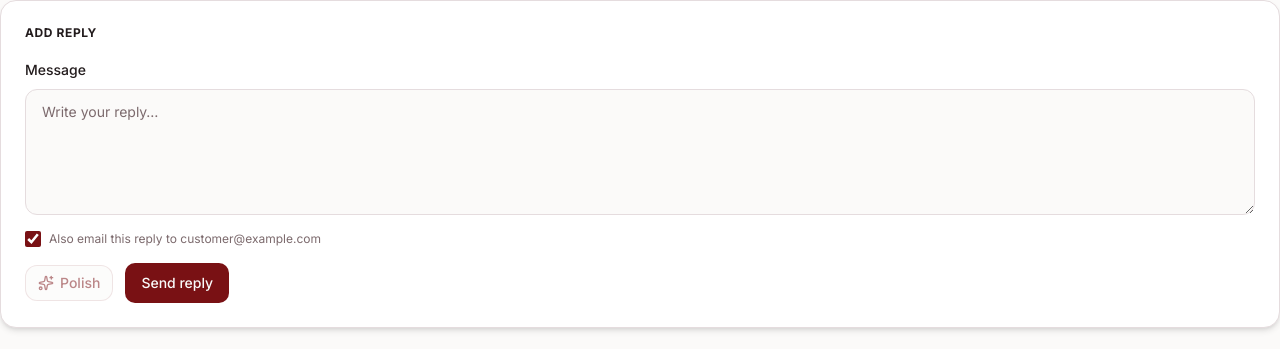
Test: ReplyForm — Polish button › Polish button is enabled once the user types a message
Type "pleas help me" into the text box labelled "Message" at (640, 152), box x1=25 y1=89 x2=1255 y2=215
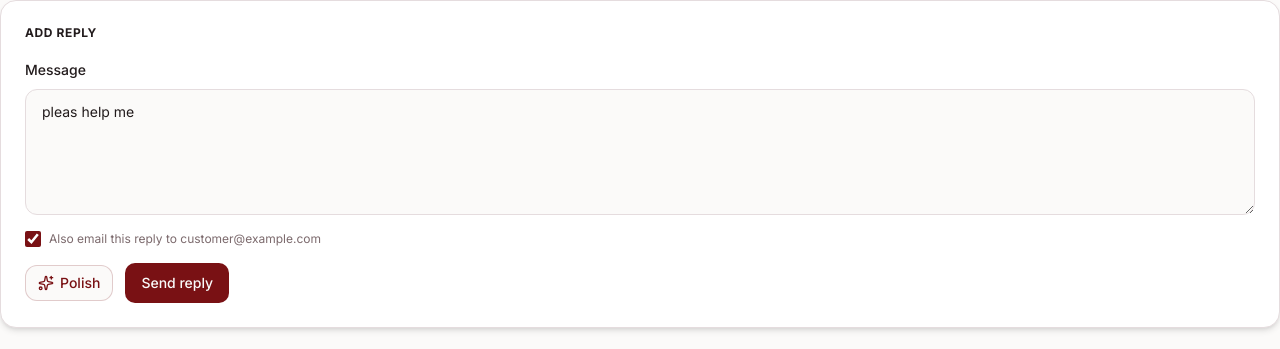
Now the button "Polish" is enabled, box x1=25 y1=265 x2=113 y2=301
